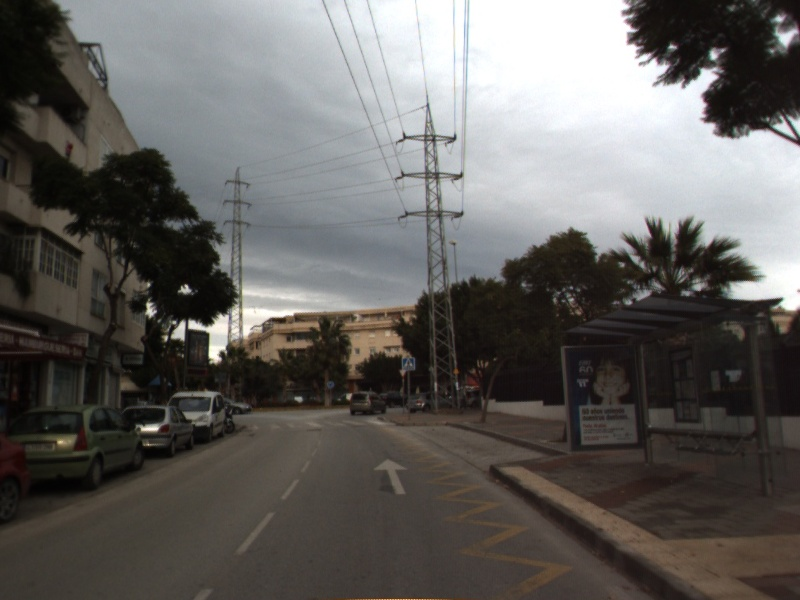STRAIGHT: (372, 457, 411, 496)
